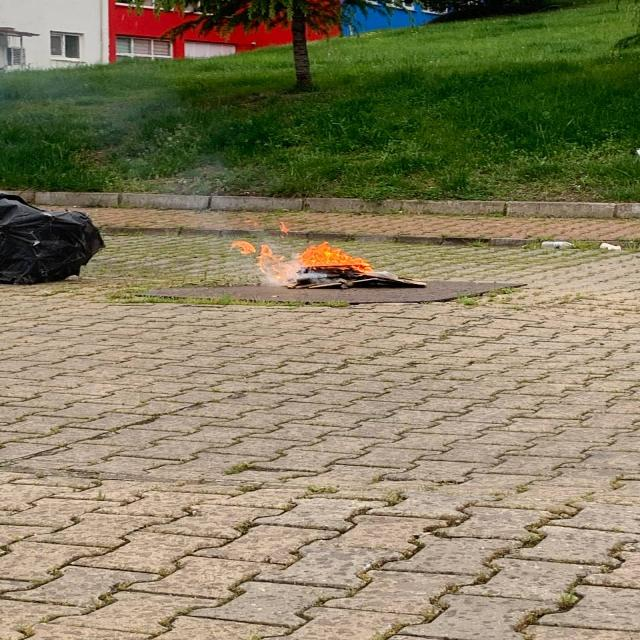fire: (225, 215, 372, 269)
